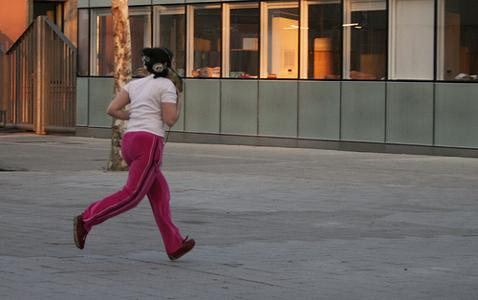person: (72, 47, 195, 262)
